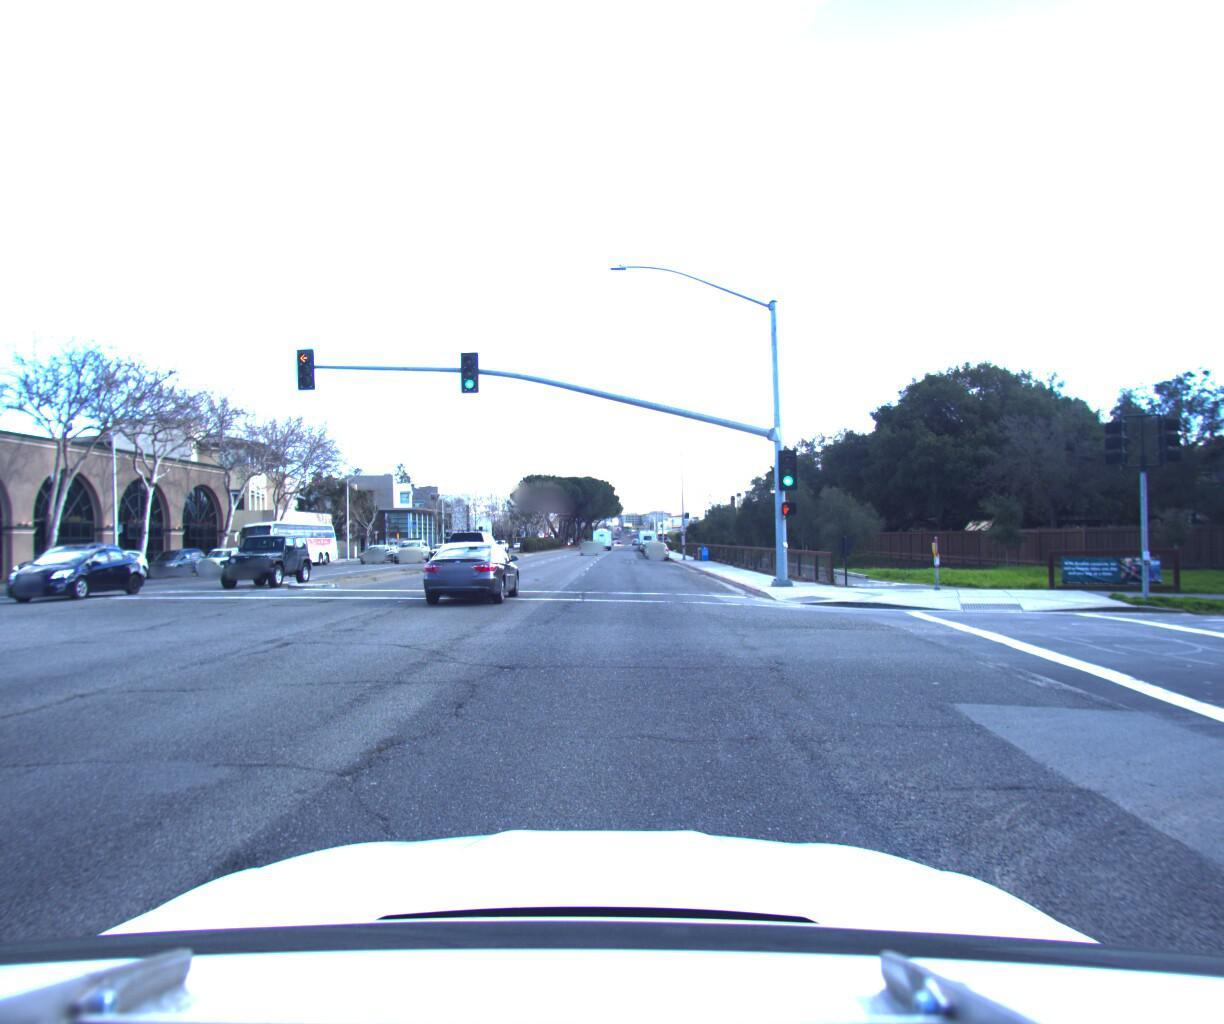bus: (230, 511, 342, 567)
car: (417, 528, 525, 603), (7, 536, 136, 588), (215, 528, 317, 585), (69, 542, 155, 579), (447, 521, 505, 566), (143, 539, 213, 570), (189, 539, 257, 569), (391, 530, 434, 555), (354, 531, 399, 554), (644, 535, 666, 551), (579, 530, 598, 546)
